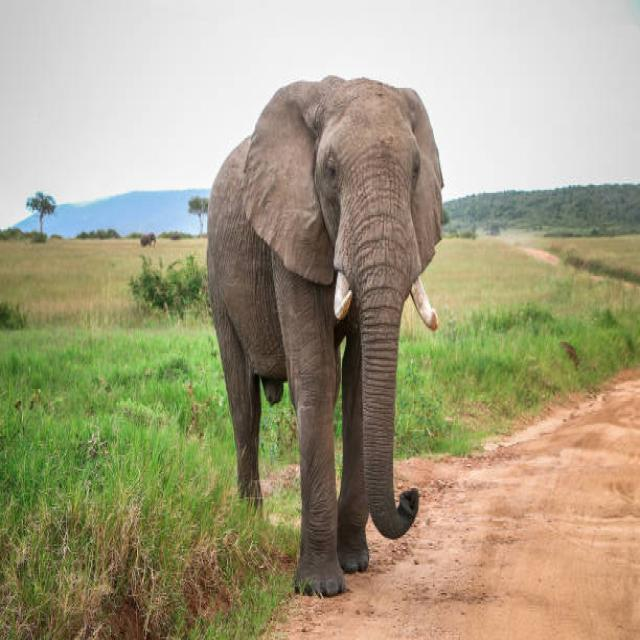Elephant: (192, 53, 460, 618)
